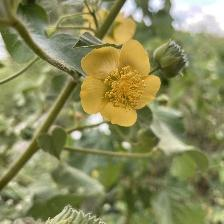indian mallow: (81, 39, 163, 128)
